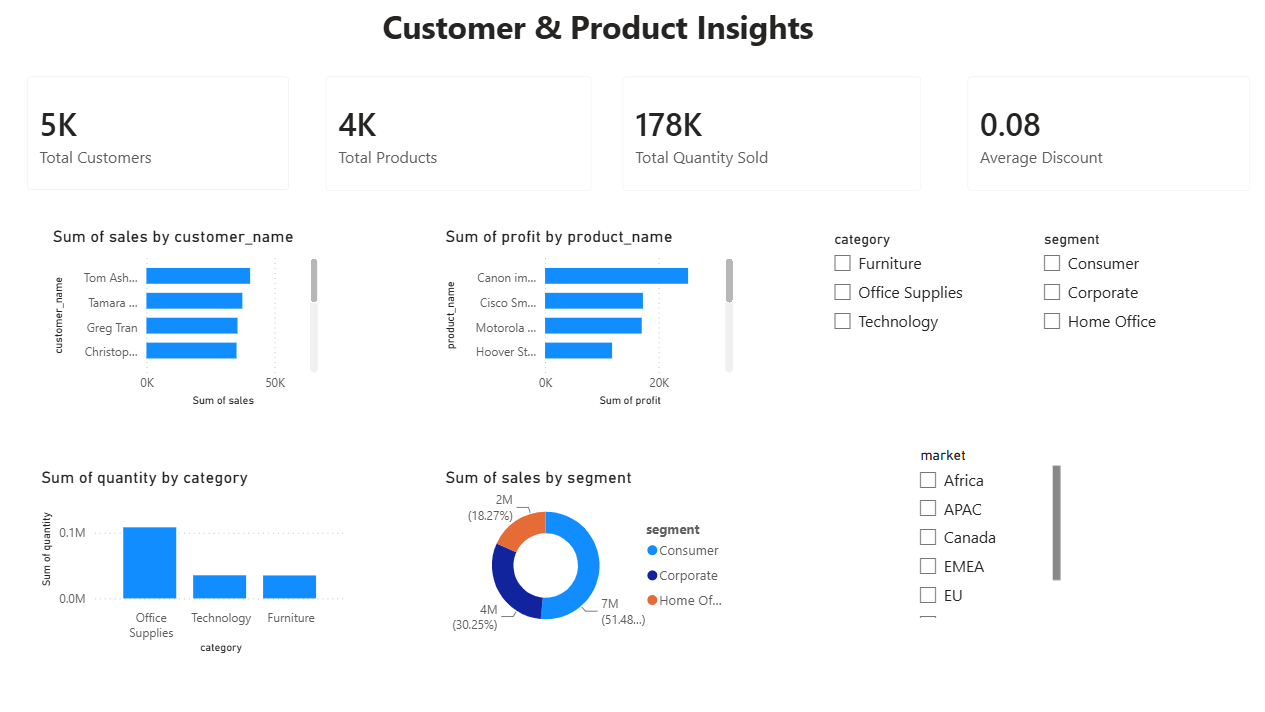

The page's visual inventory and layout, read from the dashboard file:
{"tool":"powerbi","page":{"name":"Customer & Product Insights","canvas":[1280,720],"ordinal":2},"visuals":[{"type":"textbox","box":[9.3,0,940.9,60.5],"z":0},{"type":"cardVisual","fields":{"Data":["superstore_cleaned.Total Customers"]},"box":[10.5,59.6,299.9,149.1],"z":1000},{"type":"cardVisual","fields":{"Data":["superstore_cleaned.Total Products"]},"box":[312.2,59.6,303.4,150.8],"z":2000},{"type":"cardVisual","fields":{"Data":["superstore_cleaned.Total Quantity Sold"]},"box":[612.1,59.6,336.7,150.8],"z":3000},{"type":"cardVisual","fields":{"Data":["superstore_cleaned.Average Discount"]},"box":[959.4,59.6,321,150.8],"z":4000},{"type":"clusteredBarChart","fields":{"Category":["superstore_cleaned.customer_name"],"Y":["Sum(superstore_cleaned.sales)"]},"box":[47.8,227.8,278,186.8],"z":5000},{"type":"clusteredBarChart","fields":{"Category":["superstore_cleaned.product_name"],"Y":["Sum(superstore_cleaned.profit)"]},"box":[444.3,227.8,300.7,186.8],"z":6000},{"type":"columnChart","fields":{"Category":["superstore_cleaned.category"],"Y":["Sum(superstore_cleaned.quantity)"]},"box":[36.5,471.6,319,193.7],"z":7000},{"type":"donutChart","fields":{"Category":["superstore_cleaned.segment"],"Y":["Sum(superstore_cleaned.sales)"]},"box":[444.3,471.6,300.7,180],"z":8000},{"type":"slicer","fields":{"Values":["superstore_cleaned.category"]},"box":[829.3,227.8,166.3,186.8],"z":8001},{"type":"slicer","fields":{"Values":["superstore_cleaned.segment"]},"box":[1041.2,227.8,159.5,182.3],"z":8002},{"type":"slicer","fields":{"Values":["superstore_cleaned.market"]},"box":[915.9,446.6,159.5,182.3],"z":8003}]}

Visuals, with their boxes in screenshot pixels (x1, y1, x2, y2), scaled from the page's 1280x720 canvas onto the 1265x712 screenshot:
textbox: detection(9, 0, 939, 60)
cardVisual - superstore_cleaned.Total Customers: detection(10, 59, 307, 206)
cardVisual - superstore_cleaned.Total Products: detection(309, 59, 608, 208)
cardVisual - superstore_cleaned.Total Quantity Sold: detection(605, 59, 938, 208)
cardVisual - superstore_cleaned.Average Discount: detection(948, 59, 1264, 208)
clusteredBarChart - superstore_cleaned.customer_name x Sum(superstore_cleaned.sales): detection(47, 225, 322, 410)
clusteredBarChart - superstore_cleaned.product_name x Sum(superstore_cleaned.profit): detection(439, 225, 736, 410)
columnChart - superstore_cleaned.category x Sum(superstore_cleaned.quantity): detection(36, 466, 351, 658)
donutChart - superstore_cleaned.segment x Sum(superstore_cleaned.sales): detection(439, 466, 736, 644)
slicer - superstore_cleaned.category: detection(820, 225, 984, 410)
slicer - superstore_cleaned.segment: detection(1029, 225, 1187, 406)
slicer - superstore_cleaned.market: detection(905, 442, 1063, 622)
